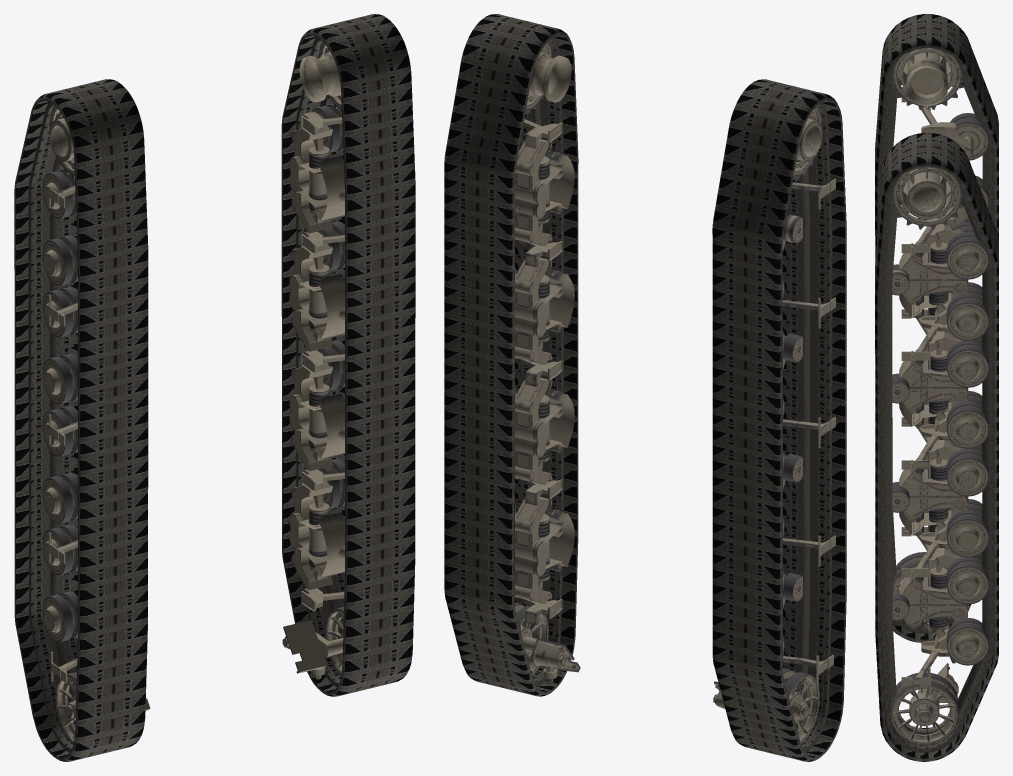
Rendered from Chassis.glb.
3 views of the same model, side by side, from view 1: azimuth 30°, elevation 25°; view 2: azimuth 150°, elevation 25°; view 3: azimuth 270°, elevation 25° (orthographic). The views are drawn at different scales.
Visible parts, largest first — view 1: set_0_group_0, set_1_group_0, set_3_group_0, set_2_group_0; view 2: set_0_group_0, set_1_group_0, set_3_group_0, set_2_group_0; view 3: set_3_group_0, set_1_group_0, set_2_group_0, set_0_group_0.
Boxes of the visible parts, x1=… form: set_0_group_0: x1=14, y1=79, x2=148, y2=761; set_1_group_0: x1=281, y1=14, x2=415, y2=696; set_3_group_0: x1=282, y1=41, x2=344, y2=679; set_2_group_0: x1=42, y1=106, x2=150, y2=744; set_0_group_0: x1=712, y1=79, x2=846, y2=761; set_1_group_0: x1=444, y1=14, x2=578, y2=696; set_3_group_0: x1=515, y1=41, x2=580, y2=683; set_2_group_0: x1=713, y1=106, x2=835, y2=744; set_3_group_0: x1=890, y1=166, x2=989, y2=745; set_1_group_0: x1=875, y1=132, x2=998, y2=761; set_2_group_0: x1=891, y1=48, x2=989, y2=632; set_0_group_0: x1=875, y1=14, x2=998, y2=642.
Size of the model in its own units: 4.02 by 7.44 by 1.39.
4 materials, 4 textured.
